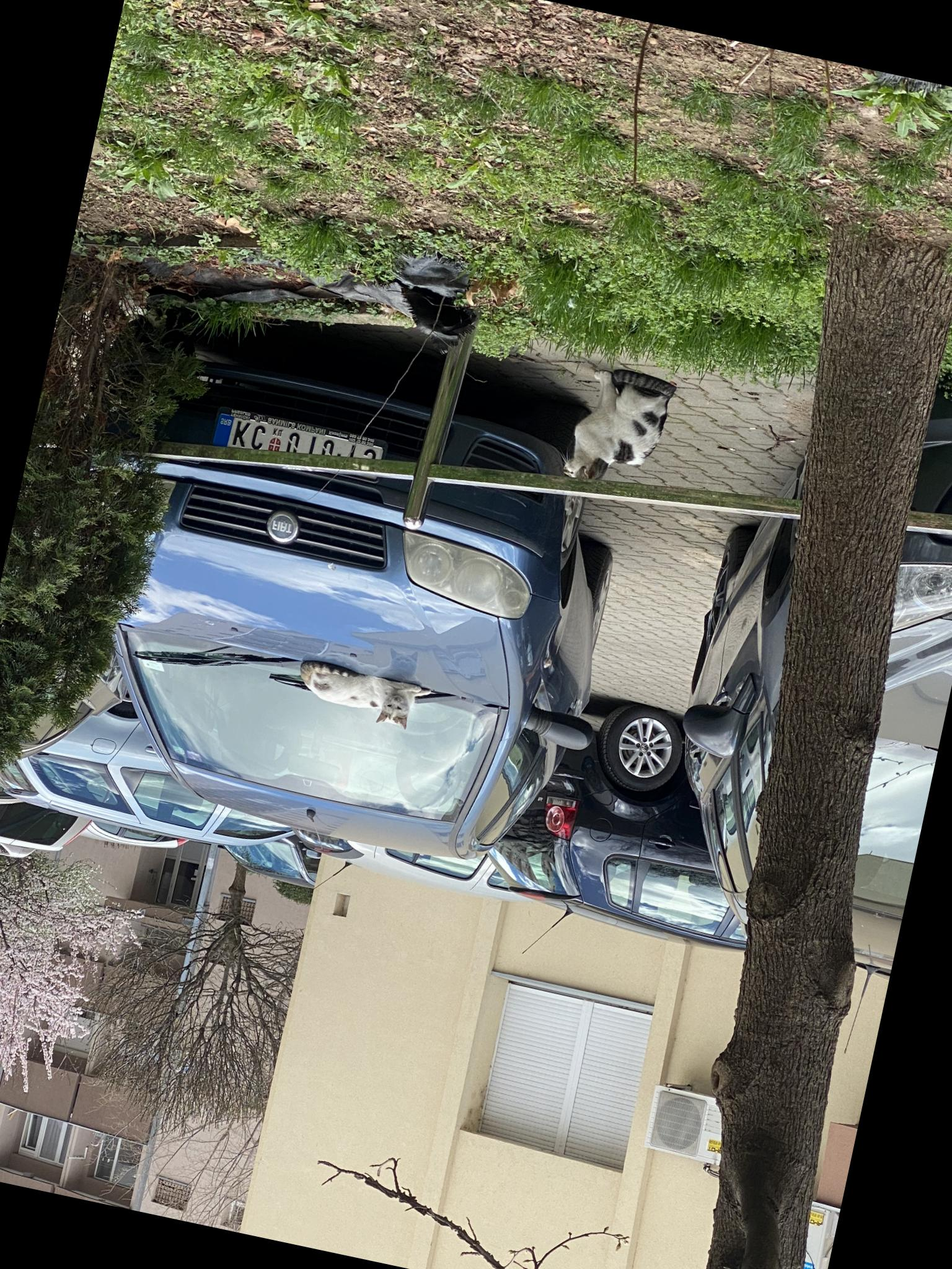macka: (562, 363, 679, 496), (291, 659, 434, 734)
